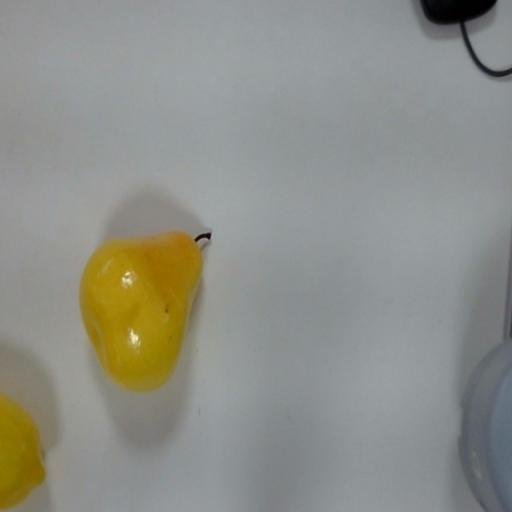Ripe: (76, 222, 214, 394), (0, 387, 51, 512)
